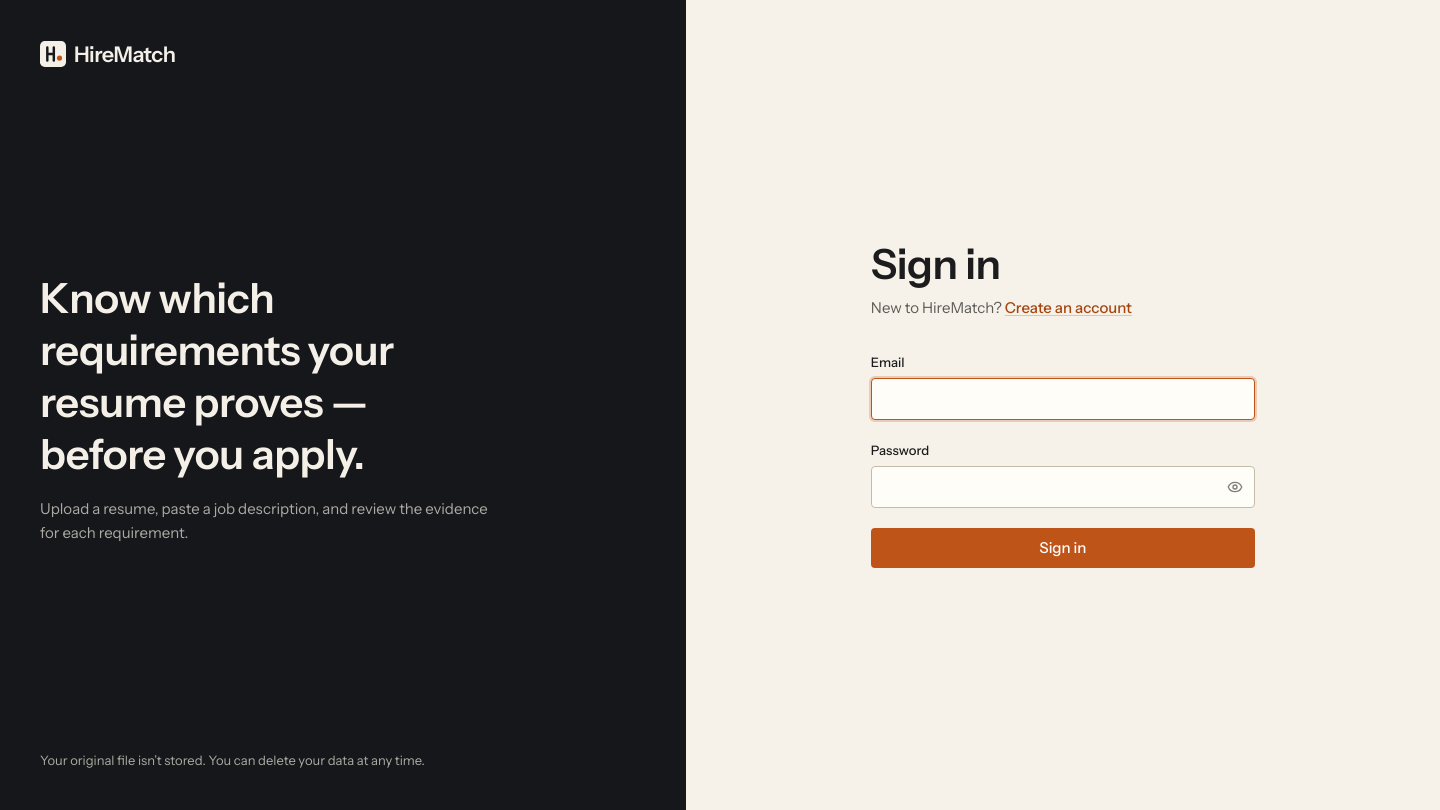
Test case: Sign in › labels fields and validates before submitting
In the field labelled "Email": (1063, 399) 871,378 -> 1255,420, type "not-an-email"
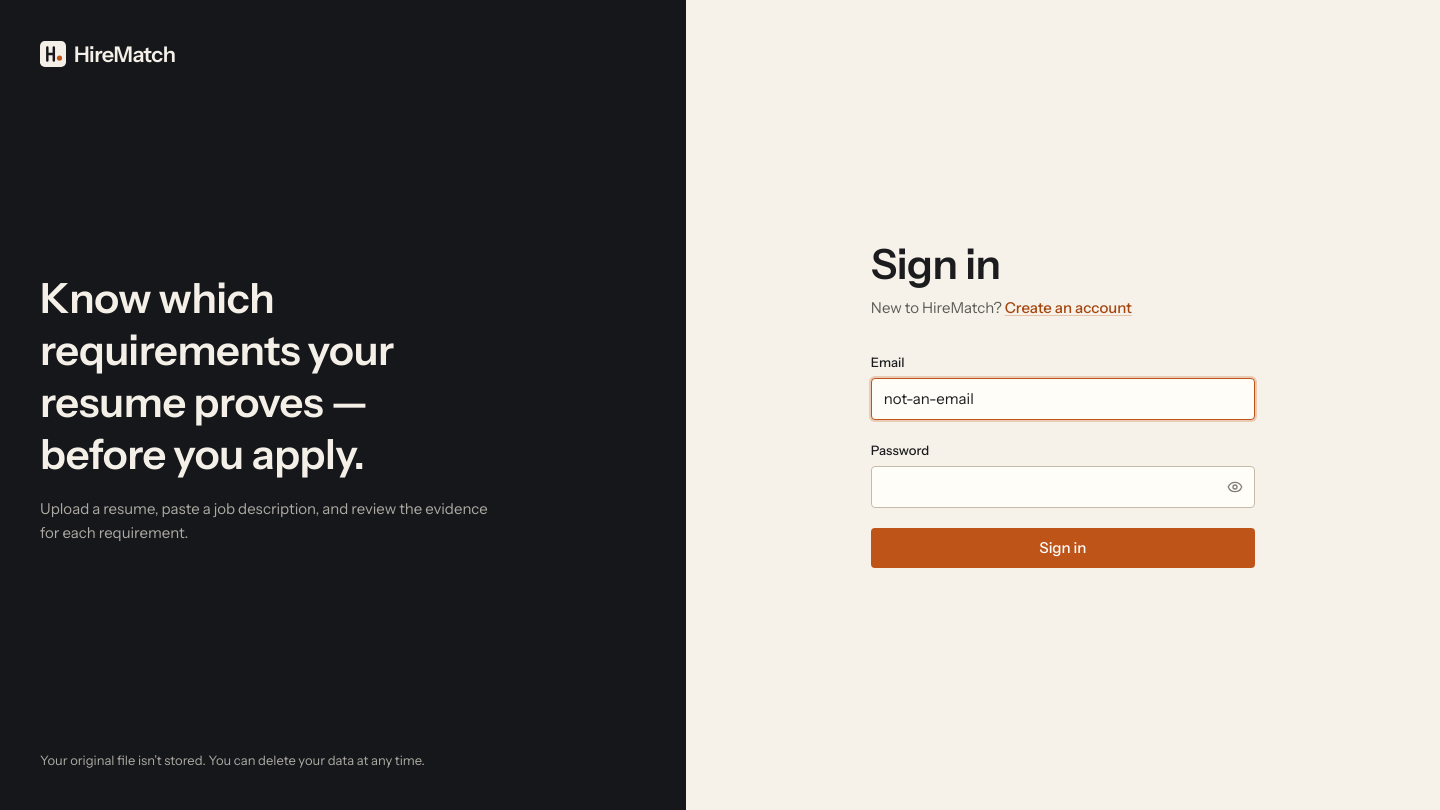
In the password field labelled "Password": (1063, 487) 871,466 -> 1255,508, type "short"
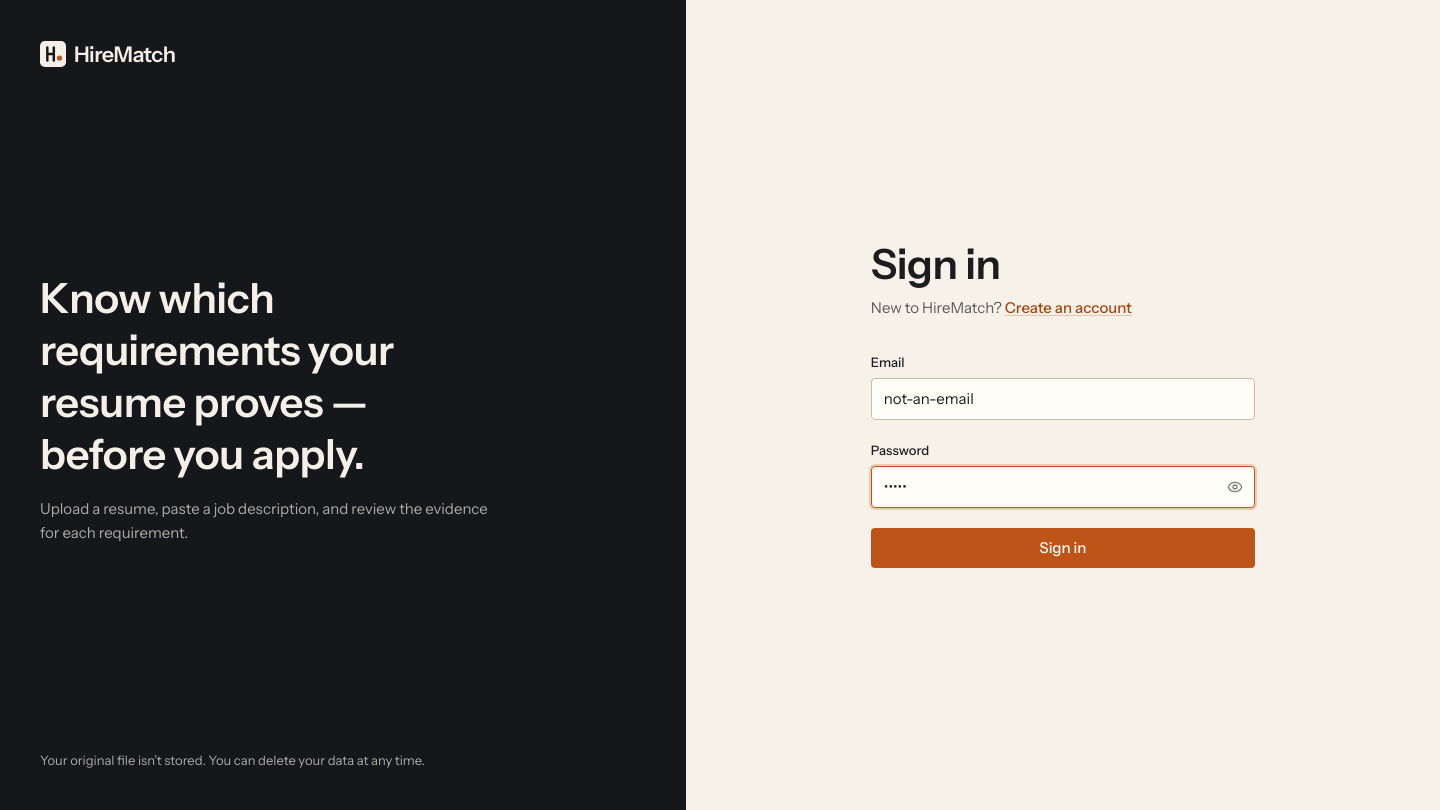
Click the button "Sign in": (1063, 548) 871,528 -> 1255,568
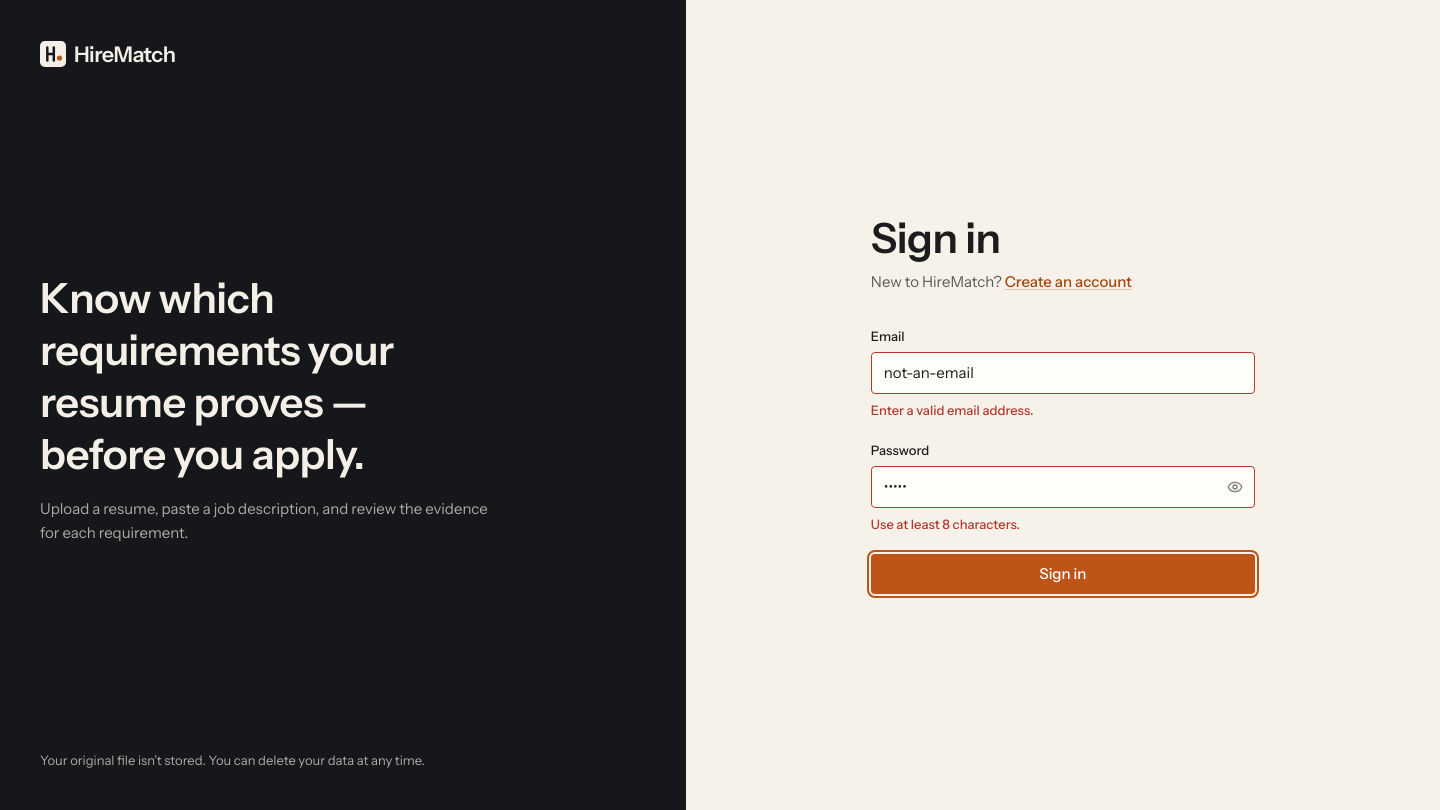
Now the text "Enter a valid email address." is shown, box 871,402 -> 1033,418
Now the text "Use at least 8 characters." is shown, box 871,516 -> 1020,532
